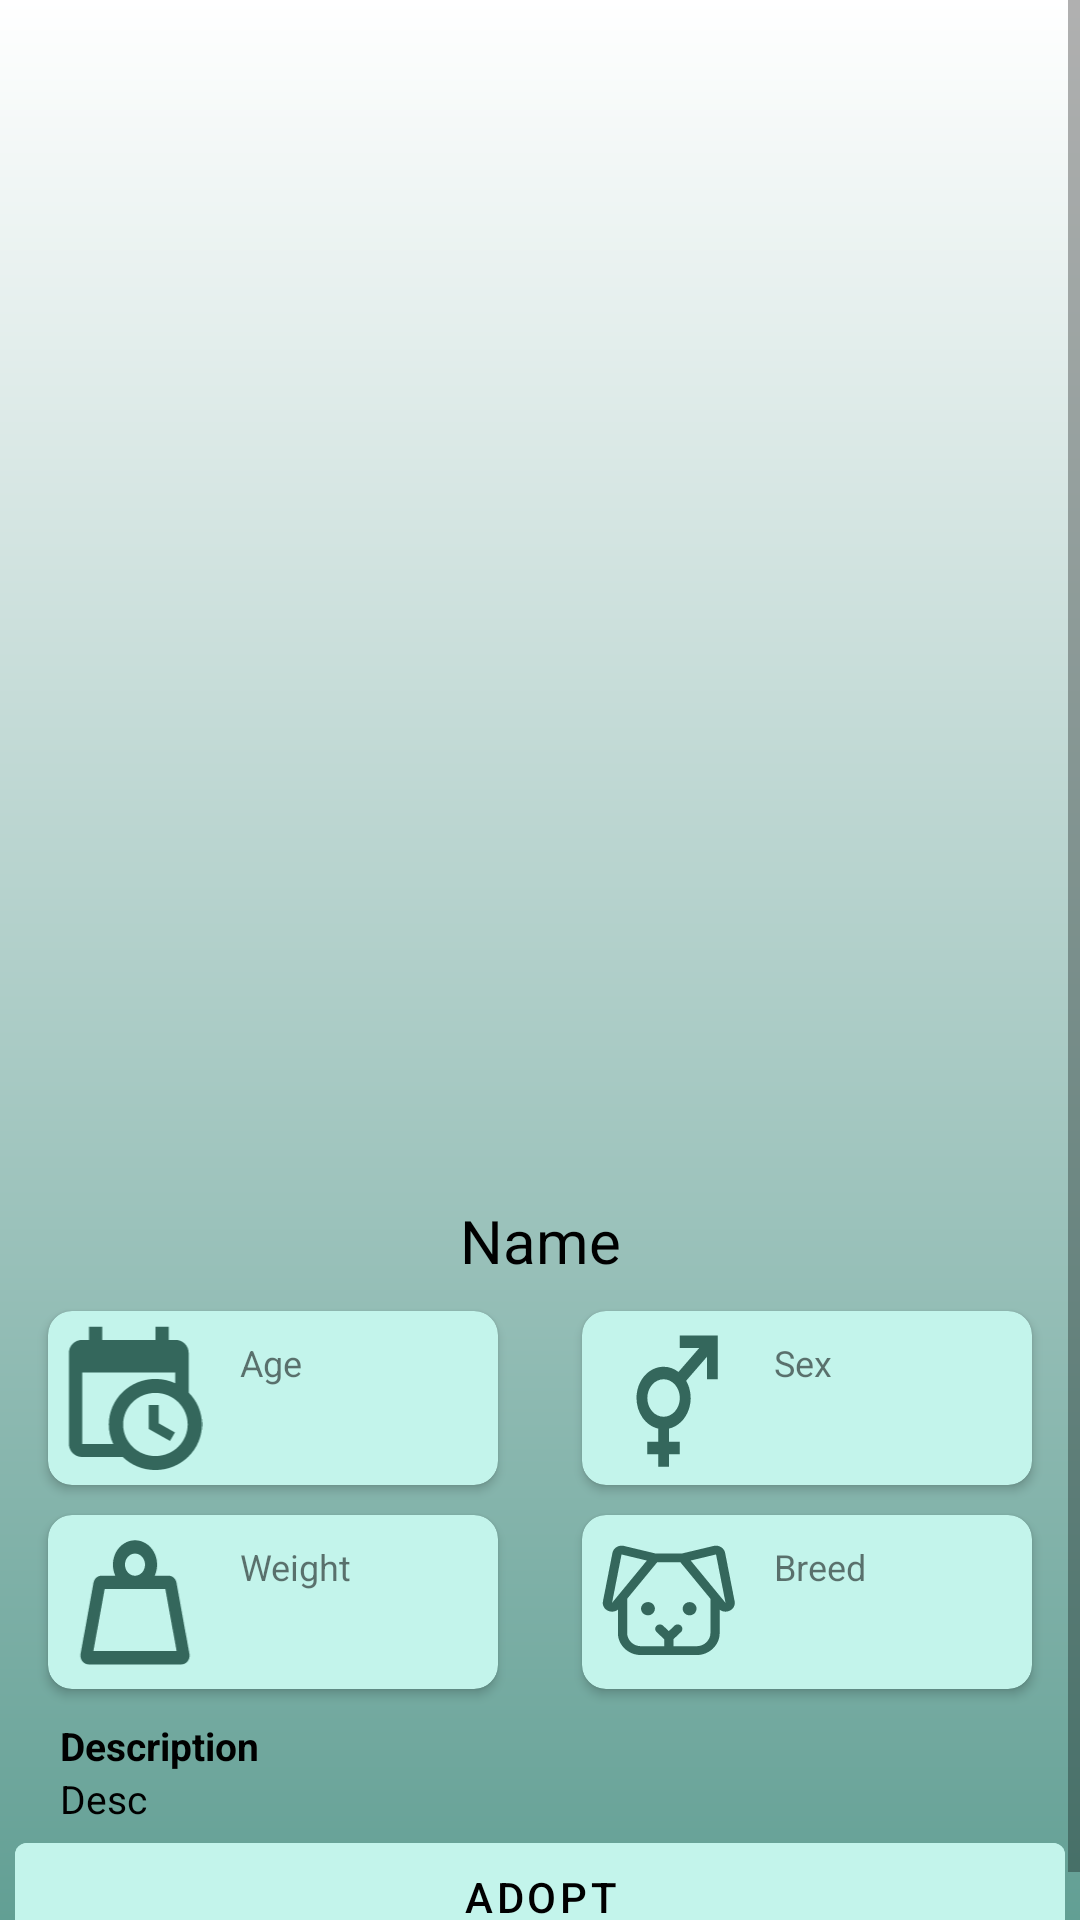

Named icons in this screenshot (1080x1920) and their centers, point (x, y):
dog: point (668, 1600)
gender: point (677, 1401)
